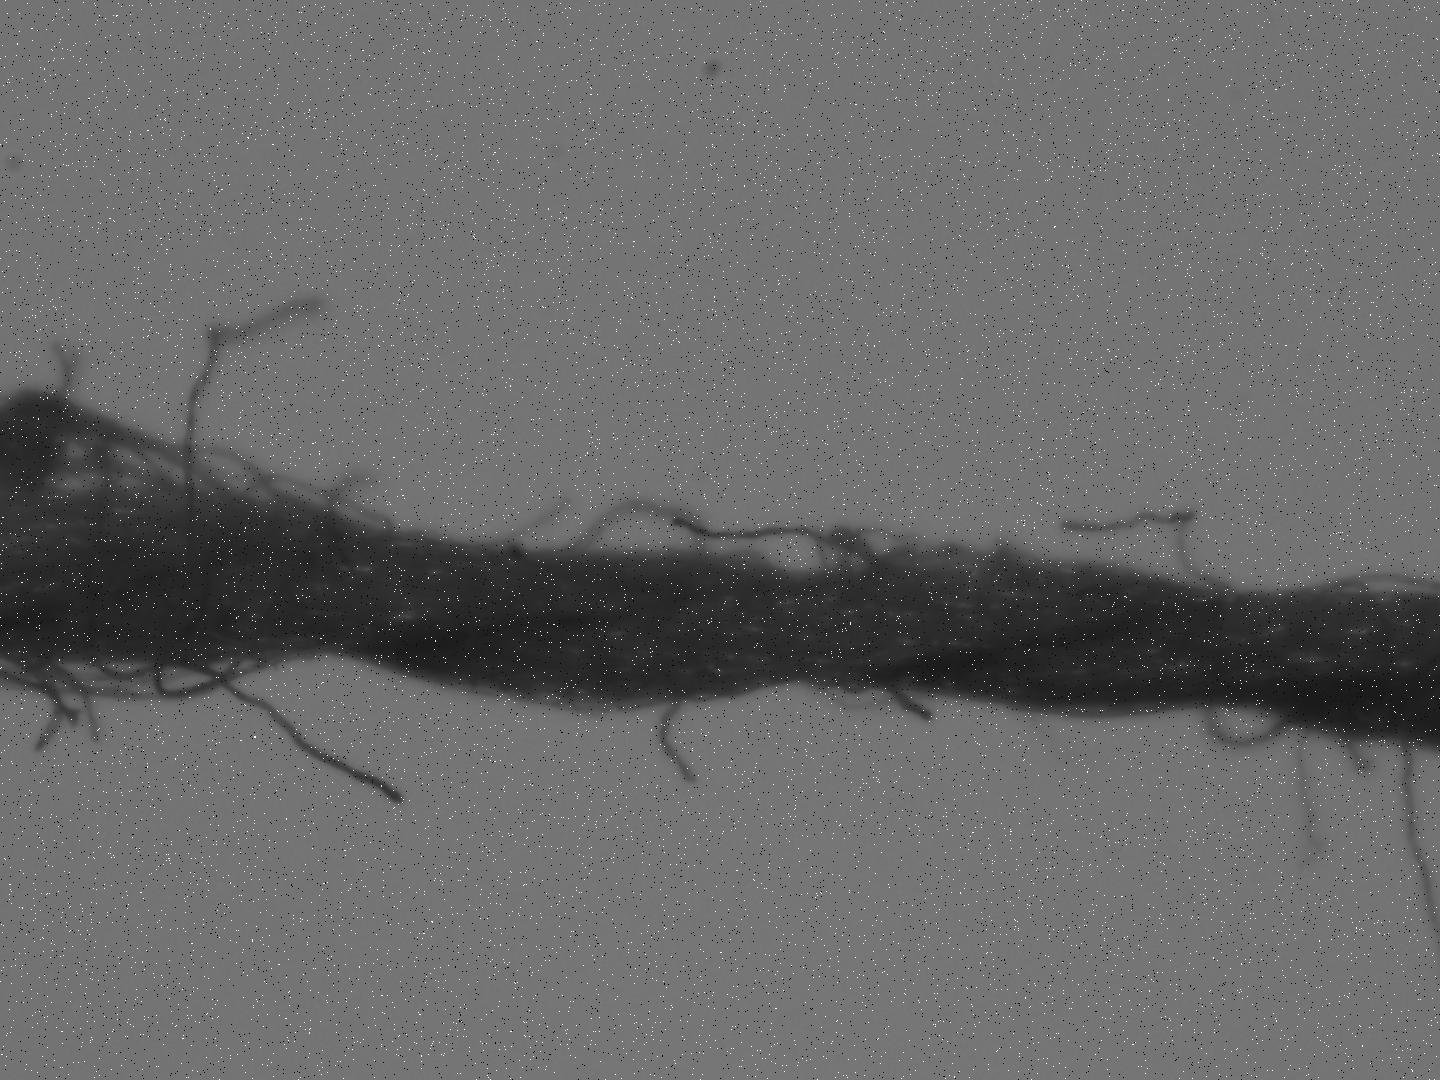loop_fiber: (2, 391, 395, 547), (1, 639, 324, 703), (838, 528, 1066, 580), (536, 500, 709, 559), (805, 672, 951, 716), (1202, 702, 1295, 749), (1306, 572, 1438, 597)
protruding_fiber: (163, 648, 414, 811), (181, 295, 331, 547), (1059, 511, 1245, 598), (657, 511, 880, 577), (1396, 740, 1439, 930), (488, 492, 578, 550), (1293, 727, 1325, 883), (658, 691, 700, 785), (882, 674, 935, 724), (1333, 732, 1377, 774)
